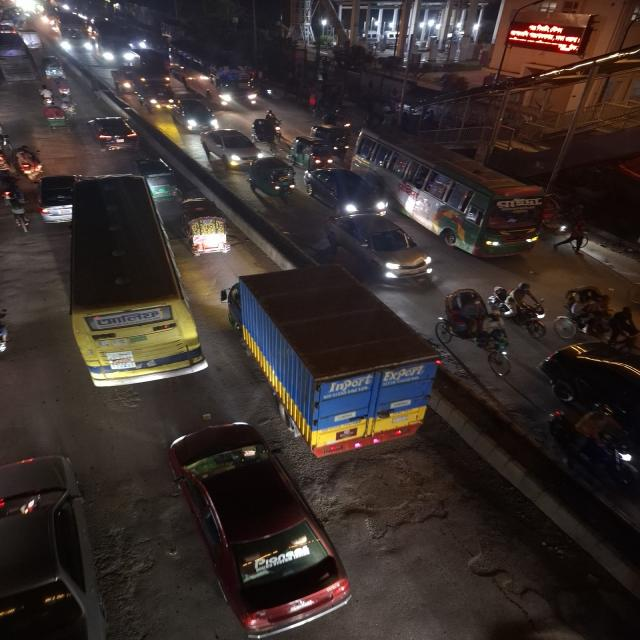bicycle: (1, 193, 32, 234)
bus: (69, 175, 196, 387), (356, 125, 553, 259), (170, 44, 260, 108), (0, 31, 34, 91), (91, 23, 135, 67), (52, 13, 92, 55)
car: (164, 412, 352, 640), (0, 450, 104, 640), (537, 342, 640, 494), (323, 212, 434, 284), (305, 167, 389, 217), (198, 127, 263, 169), (84, 114, 140, 154), (34, 172, 75, 226), (170, 96, 219, 133)
cng: (246, 156, 298, 200), (134, 159, 181, 201), (291, 134, 335, 170), (309, 124, 351, 152), (40, 55, 66, 80)
motorcycle: (564, 283, 640, 351), (496, 278, 550, 339), (15, 144, 44, 182), (0, 303, 17, 363), (0, 170, 25, 206), (54, 75, 75, 99), (0, 133, 11, 175), (37, 84, 55, 106)
pickup_van: (133, 76, 174, 110)
rickshaw: (437, 285, 514, 373), (562, 284, 640, 352), (177, 193, 243, 259), (41, 104, 70, 132)
truck: (227, 268, 444, 462), (132, 49, 172, 88)
